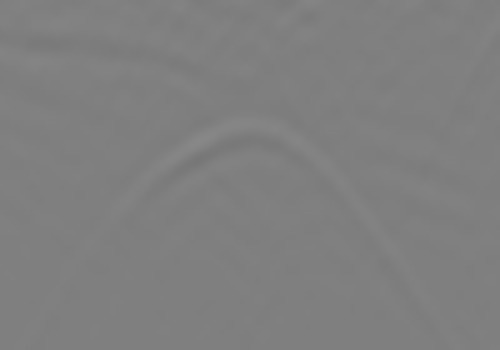hyperbola: (65, 108, 419, 306)
